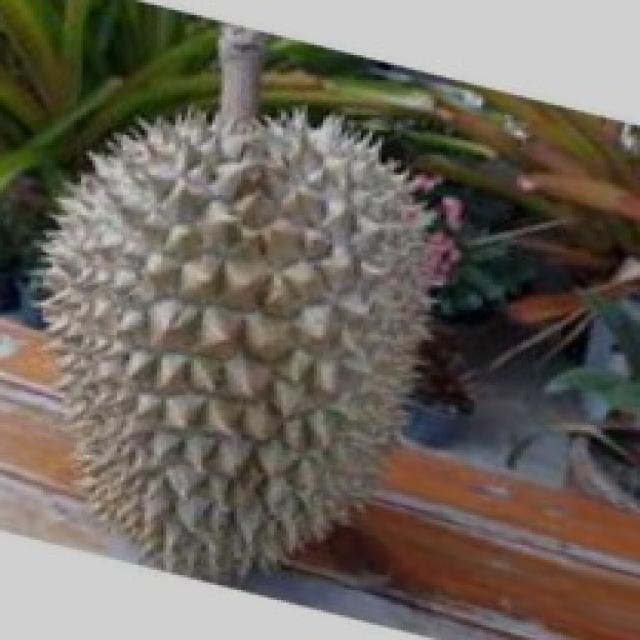fruit: (3, 232, 382, 620)
